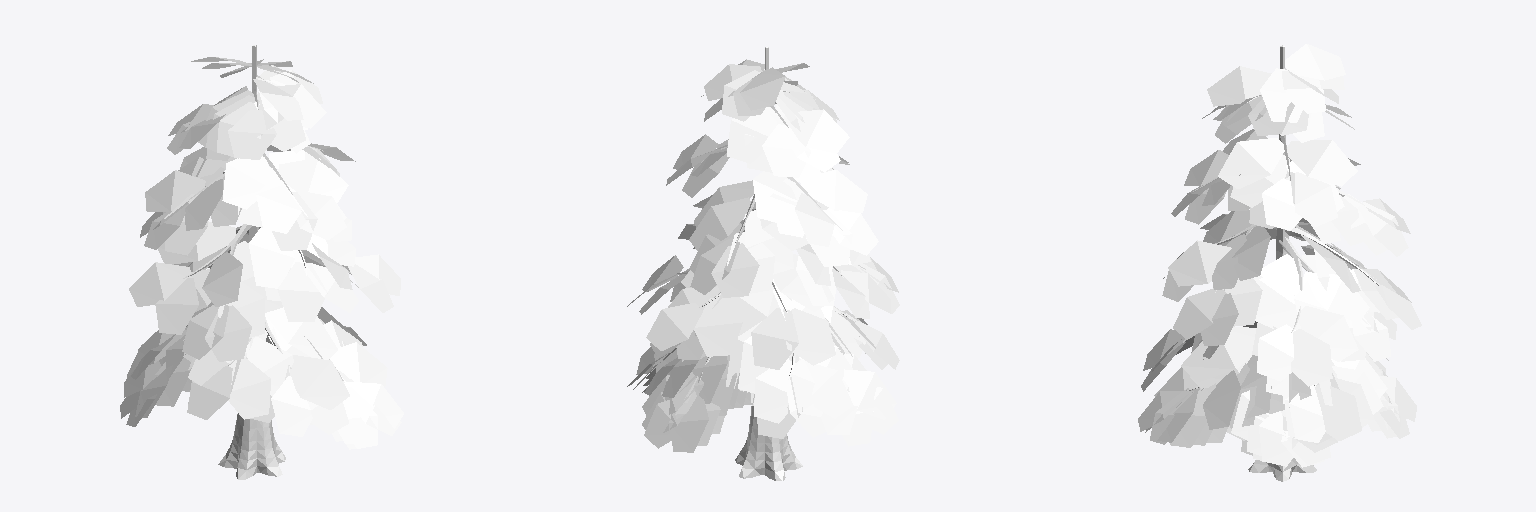
The model's file is tree_pine_small_01.obj.
The picture shows the model from 3 angles: view 1: azimuth 30°, elevation 25°; view 2: azimuth 150°, elevation 25°; view 3: azimuth 270°, elevation 25°; orthographic projection.
Visible parts, largest first — view 1: tree; view 2: tree; view 3: tree.
Part boxes in pixels (x1,y1,x2,y2): tree: (120, 45, 403, 479); tree: (627, 47, 899, 480); tree: (1138, 44, 1421, 481).
Bounding box in the file's own units: 12.24 × 19.55 × 11.97.